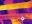Hotspot: (0, 3, 29, 10), (12, 22, 21, 23)
